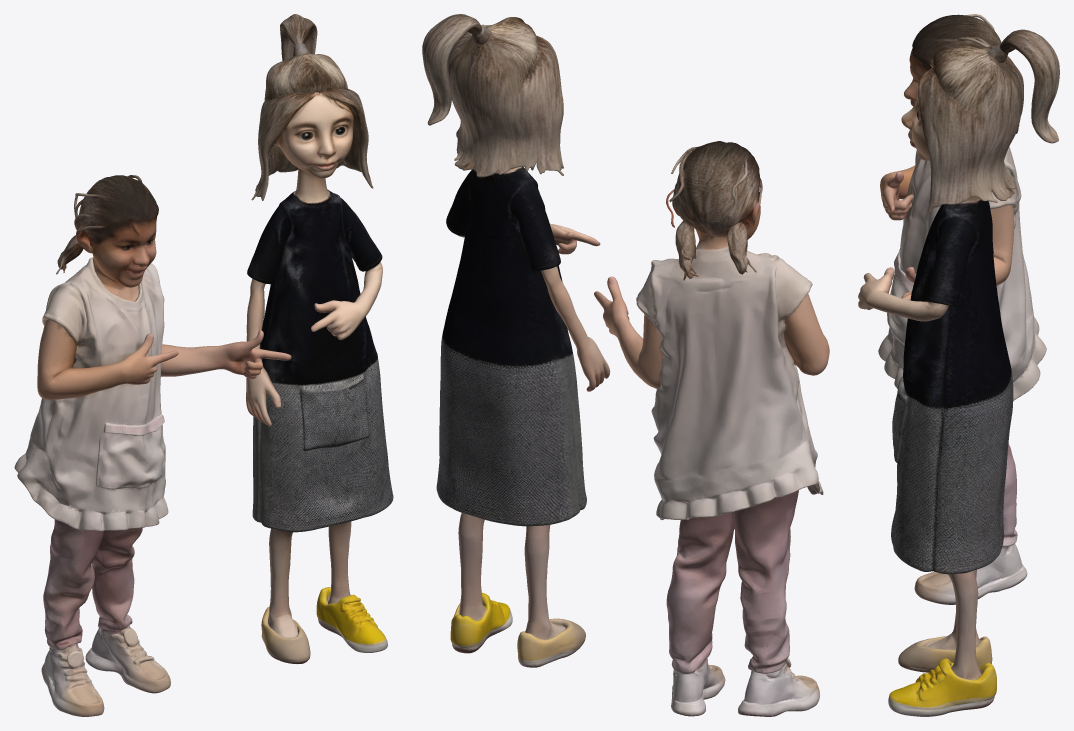
Rendered from Elena baja.glb.
3 renders of one model, left to right at view 1: azimuth 30°, elevation 25°; view 2: azimuth 150°, elevation 25°; view 3: azimuth 270°, elevation 25°, orthographic. The views are drawn at different scales.
Parts seen in each view (by area): view 1: tripo_node_12c7a838-8b3a-4181-bc08-40a75023b436; view 2: tripo_node_12c7a838-8b3a-4181-bc08-40a75023b436; view 3: tripo_node_12c7a838-8b3a-4181-bc08-40a75023b436.
Boxes of the visible parts, x1,y1,x2,y2 form: tripo_node_12c7a838-8b3a-4181-bc08-40a75023b436: (14, 14, 393, 716); tripo_node_12c7a838-8b3a-4181-bc08-40a75023b436: (422, 14, 829, 716); tripo_node_12c7a838-8b3a-4181-bc08-40a75023b436: (858, 14, 1059, 716).
Bounding box in the file's own units: 0.6203 × 1 × 0.2745.
1 material, 1 textured.
